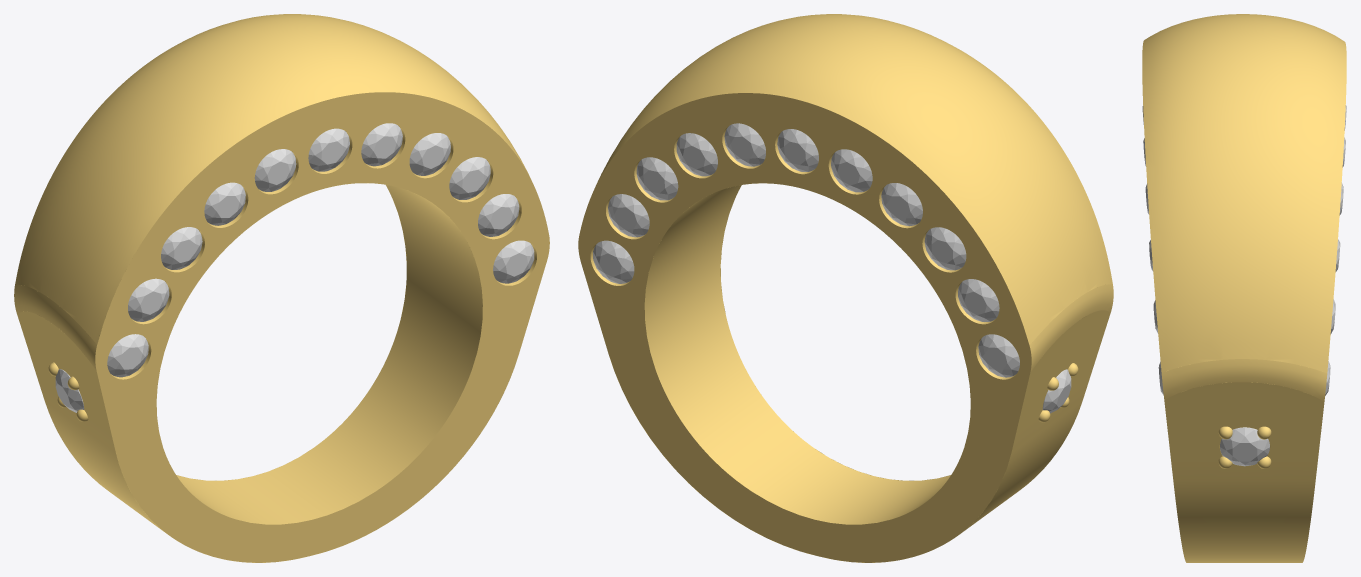
Rendered from JuliaAV2yg_blender.glb.
The picture shows the model from 3 angles, left to right: view 1: azimuth 30°, elevation 25°; view 2: azimuth 150°, elevation 25°; view 3: azimuth 270°, elevation 25°; orthographic projection.
Visible parts, largest first — view 1: v2 Julia YG for 3d model, v2 Julia dia for 3d model.018, v2 Julia dia for 3d model.011, v2 Julia dia for 3d model.016, v2 Julia dia for 3d model.021, v2 Julia dia for 3d model.015, v2 Julia dia for 3d model.013, v2 Julia dia for 3d model.017, v2 Julia dia for 3d model.019, v2 Julia dia for 3d model.014, v2 Julia dia for 3d model.012, v2 Julia dia for 3d model.020 (+1 smaller); view 2: v2 Julia YG for 3d model, v2 Julia dia for 3d model.002, v2 Julia dia for 3d model.004, v2 Julia dia for 3d model.008, v2 Julia dia for 3d model, v2 Julia dia for 3d model.010, v2 Julia dia for 3d model.003, v2 Julia dia for 3d model.001, v2 Julia dia for 3d model.006, v2 Julia dia for 3d model.007, v2 Julia dia for 3d model.005, v2 Julia dia for 3d model.009 (+1 smaller); view 3: v2 Julia YG for 3d model, v2 Julia dia for 3d model.022.
Part boxes in pixels (box(x1,y1,x2,y2)): v2 Julia YG for 3d model: box(14, 14, 549, 562); v2 Julia dia for 3d model.018: box(204, 182, 245, 225); v2 Julia dia for 3d model.011: box(493, 240, 534, 283); v2 Julia dia for 3d model.016: box(308, 128, 349, 171); v2 Julia dia for 3d model.021: box(107, 334, 148, 377); v2 Julia dia for 3d model.015: box(361, 123, 402, 166); v2 Julia dia for 3d model.013: box(449, 157, 490, 199); v2 Julia dia for 3d model.017: box(254, 149, 296, 191); v2 Julia dia for 3d model.019: box(161, 227, 202, 269); v2 Julia dia for 3d model.014: box(409, 133, 450, 175); v2 Julia dia for 3d model.012: box(478, 194, 519, 236); v2 Julia dia for 3d model.020: box(128, 278, 169, 321); v2 Julia YG for 3d model: box(578, 14, 1113, 562); v2 Julia dia for 3d model.002: box(636, 157, 678, 200); v2 Julia dia for 3d model.004: box(724, 123, 765, 166); v2 Julia dia for 3d model.008: box(924, 227, 966, 270); v2 Julia dia for 3d model: box(593, 240, 634, 283); v2 Julia dia for 3d model.010: box(978, 334, 1019, 377); v2 Julia dia for 3d model.003: box(676, 133, 717, 176); v2 Julia dia for 3d model.001: box(608, 194, 649, 237); v2 Julia dia for 3d model.006: box(831, 149, 872, 192); v2 Julia dia for 3d model.007: box(881, 183, 922, 226); v2 Julia dia for 3d model.005: box(777, 129, 818, 171); v2 Julia dia for 3d model.009: box(958, 279, 999, 321); v2 Julia YG for 3d model: box(1142, 14, 1346, 562); v2 Julia dia for 3d model.022: box(1220, 427, 1269, 466).
Bounding box in the file's own units: 21.37 × 22.07 × 8.15.
